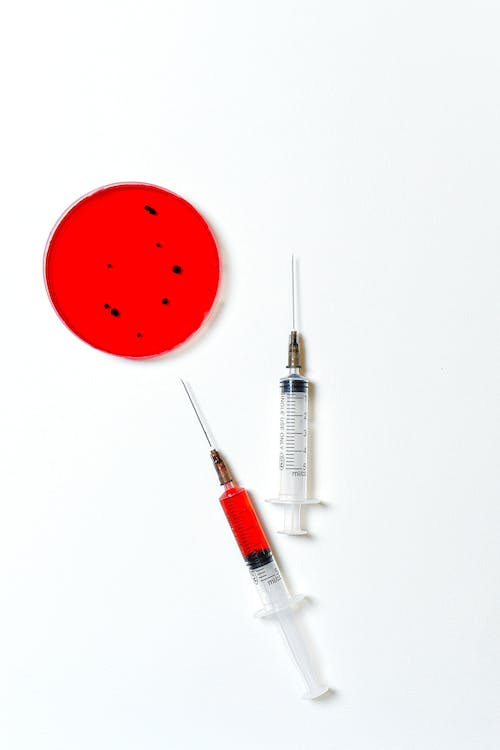blood: (40, 177, 224, 362), (208, 444, 274, 572)
